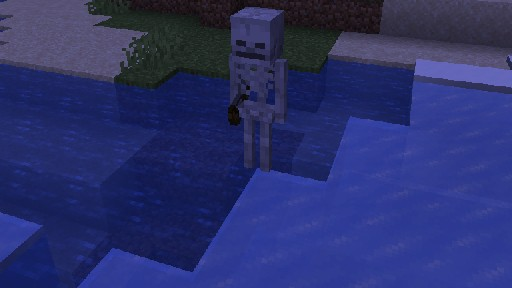skeleton: (227, 5, 287, 172)
